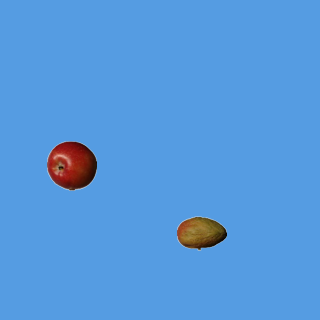Apple Braeburn: (46, 140, 96, 190)
Papaya: (176, 208, 226, 258)
